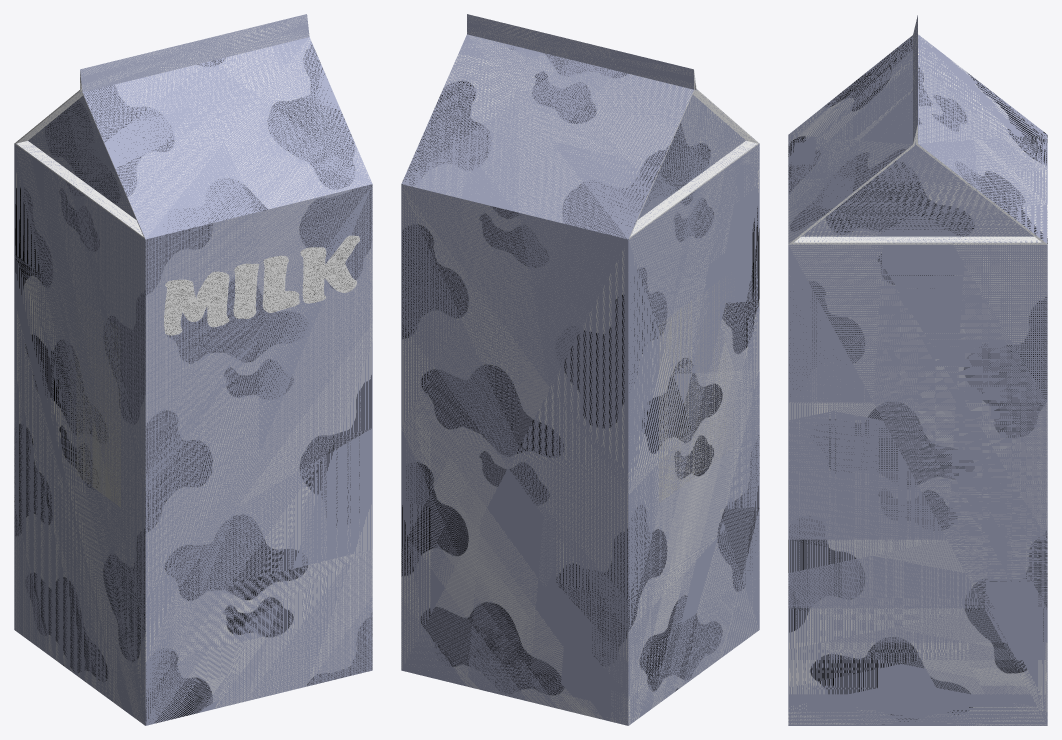
The model's file is Milk+Carton.fbx.
The picture shows the model from 3 angles, left to right: view 1: azimuth 30°, elevation 25°; view 2: azimuth 150°, elevation 25°; view 3: azimuth 270°, elevation 25°; orthographic projection.
Parts seen in each view (by area): view 1: Group1; view 2: Group1; view 3: Group1.
Part boxes in pixels (bbox=[...]): Group1: bbox=[14, 14, 372, 725]; Group1: bbox=[401, 14, 759, 725]; Group1: bbox=[788, 15, 1047, 725].
Size of the model in its own units: 124 by 318 by 124.
